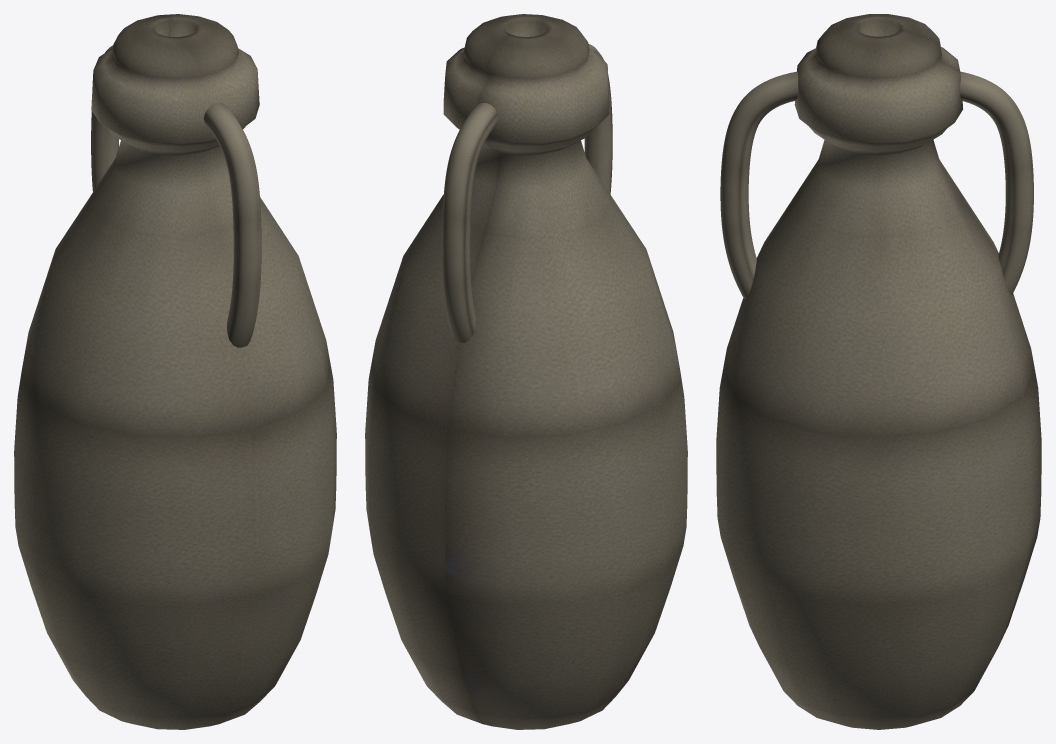
The model's file is vasija.glb.
The picture shows the model from 3 angles, left to right: view 1: azimuth 30°, elevation 25°; view 2: azimuth 150°, elevation 25°; view 3: azimuth 270°, elevation 25°; orthographic projection.
Parts seen in each view (by area): view 1: Cube, Manilla1.001, Manilla1; view 2: Cube, Manilla1, Manilla1.001; view 3: Cube, Manilla1.001, Manilla1.
Boxes of the visible parts, x1,y1,x2,y2 form: Cube: [14, 14, 336, 729]; Manilla1.001: [203, 102, 261, 347]; Manilla1: [91, 45, 118, 191]; Cube: [365, 14, 687, 729]; Manilla1: [442, 103, 498, 342]; Manilla1.001: [584, 44, 612, 194]; Cube: [716, 14, 1041, 729]; Manilla1.001: [720, 71, 798, 299]; Manilla1: [960, 71, 1033, 294].
Bounding box in the file's own units: 1.43 × 3.32 × 1.43.
1 material, 1 textured.
